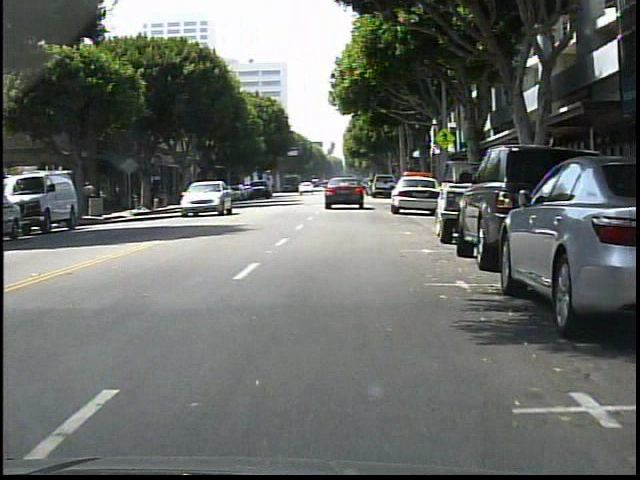person: (82, 179, 101, 219)
